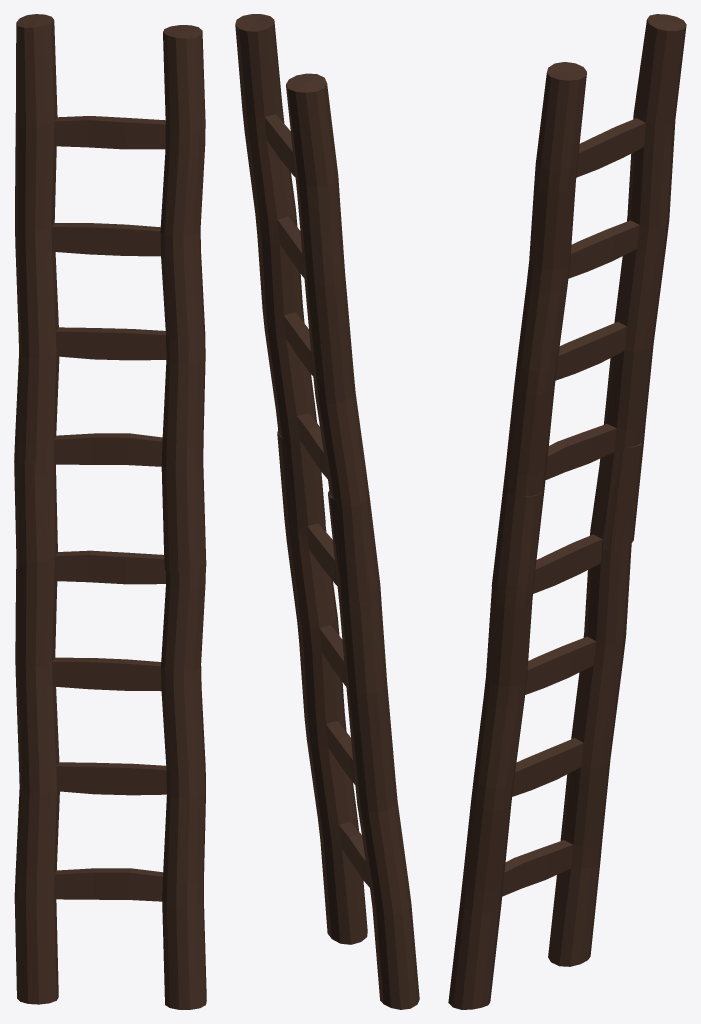
Rendered from Escada.fbx.
3 renders of one model, left to right at view 1: azimuth 30°, elevation 25°; view 2: azimuth 150°, elevation 25°; view 3: azimuth 270°, elevation 25°, orthographic. The views are drawn at different scales.
Parts seen in each view (by area): view 1: Circle.003; view 2: Circle.003; view 3: Circle.003.
Part boxes in pixels (box(x1,y1,x2,y2)): Circle.003: box(14, 14, 206, 1009); Circle.003: box(235, 14, 419, 1009); Circle.003: box(448, 14, 686, 1009).
Bounding box in the file's own units: 526 × 2629 × 590.
